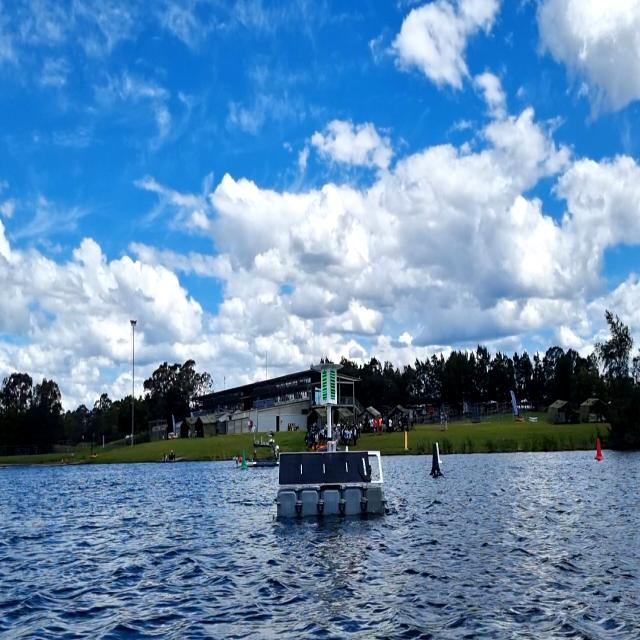led: (322, 369, 336, 402), (329, 370, 336, 402), (321, 370, 328, 401)
